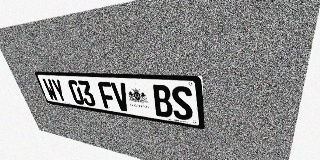0: (67, 80, 85, 105)
3: (77, 80, 96, 107)
B: (151, 84, 174, 118)
F: (97, 81, 117, 110)
S: (170, 85, 193, 121)
V: (110, 82, 131, 112)
W: (42, 78, 59, 101)
Y: (50, 79, 68, 103)
